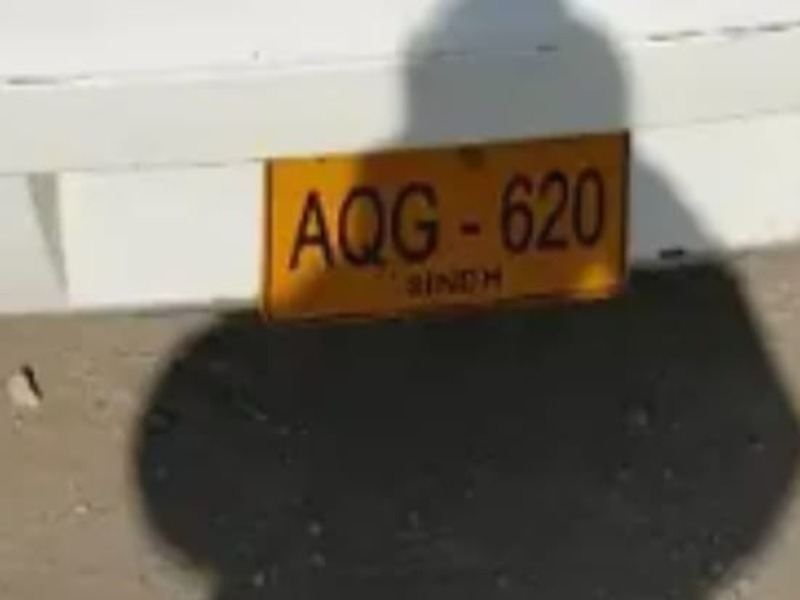License Plate: (260, 126, 647, 308)
